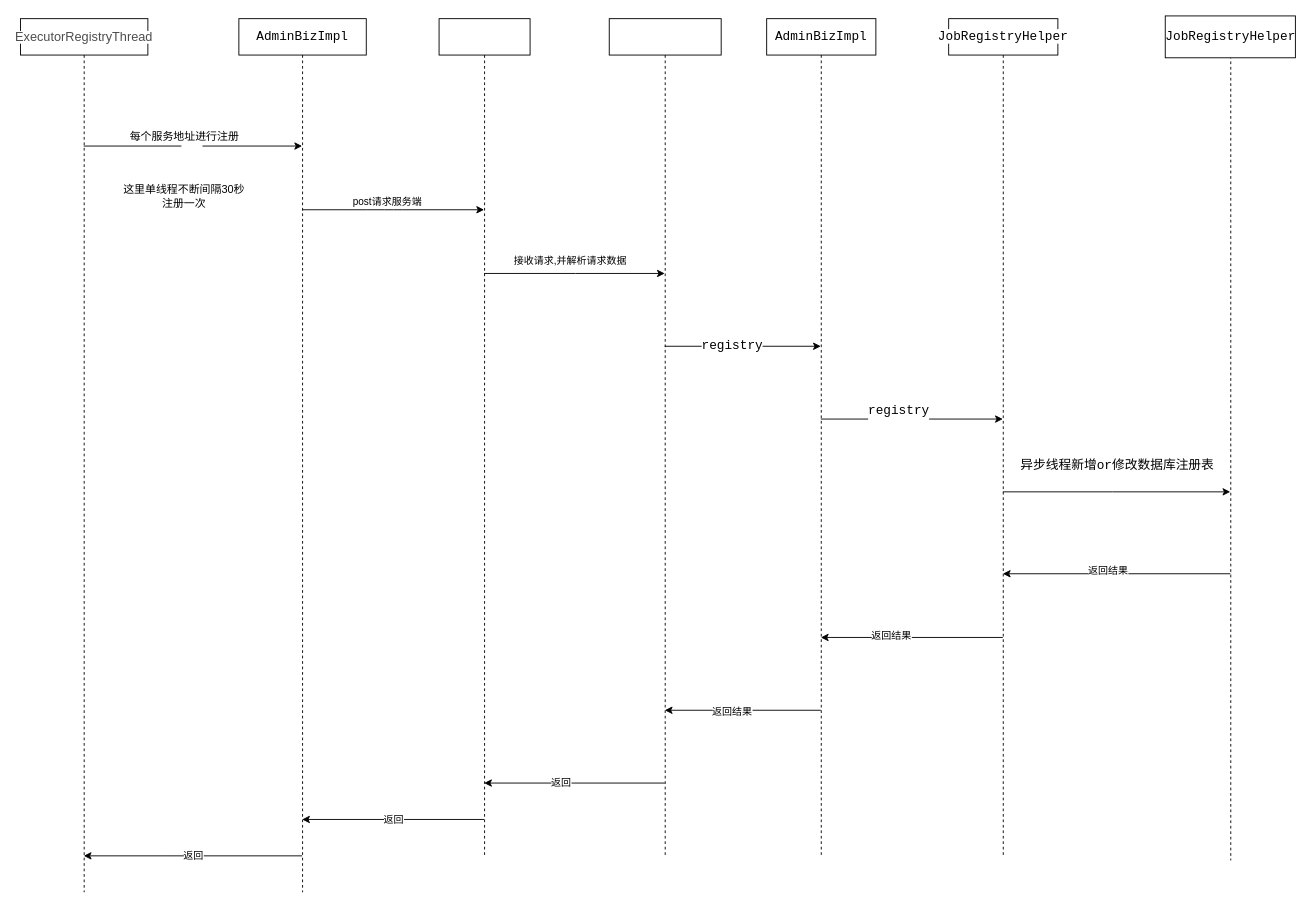
The diagram is 1312 pixels wide and 908 high, and some of its shapes have lost their labels. Each missing label, with the box of its shape:
JobApiController: (608, 18, 721, 856)
XxlJobRemotingUtil: (438, 18, 530, 856)
